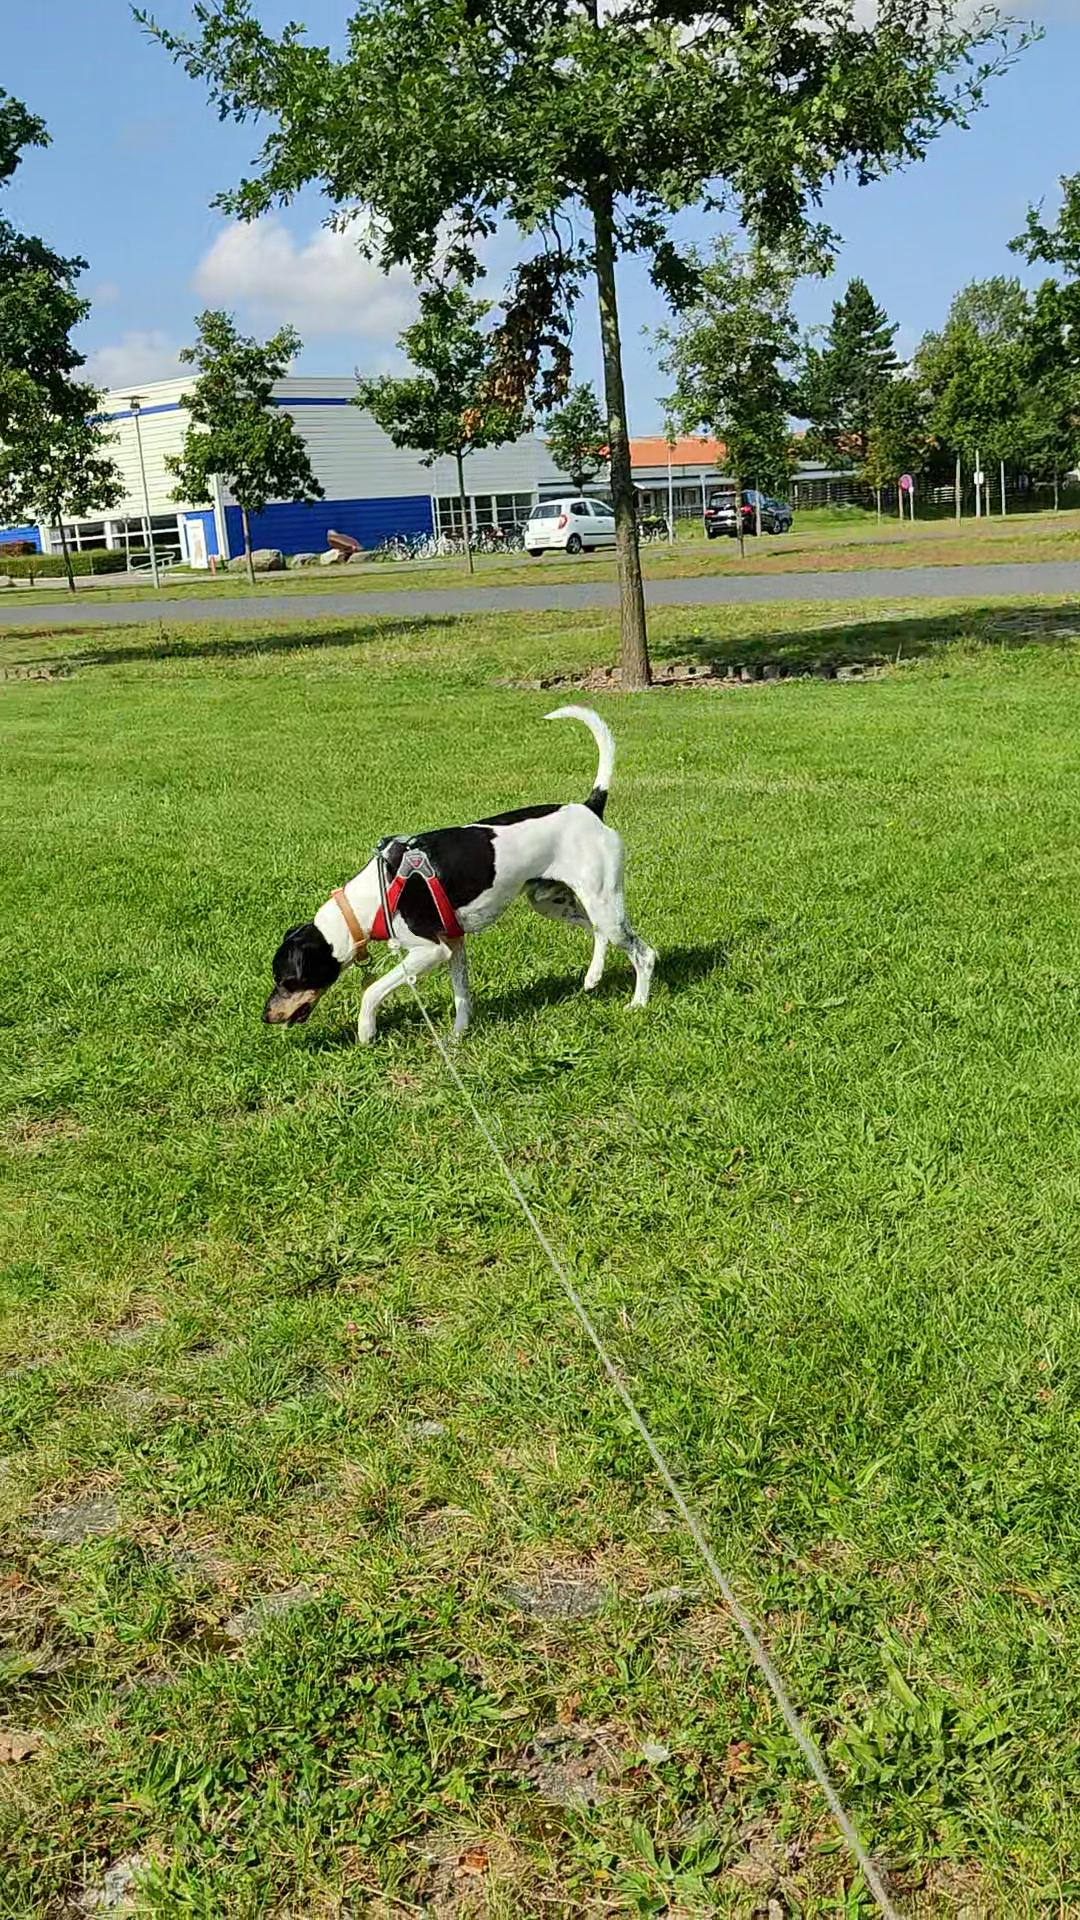Dog: (257, 698, 663, 1052)
